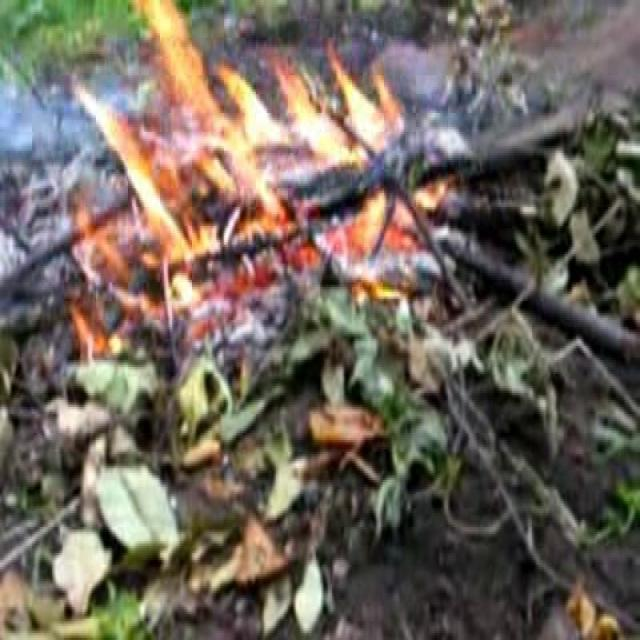Fire: (87, 29, 433, 295)
